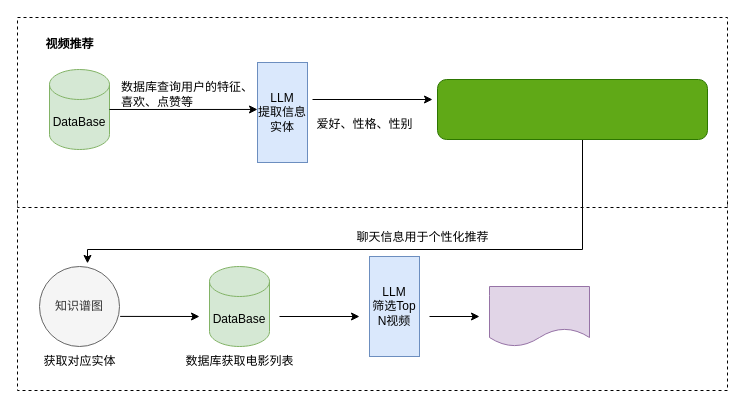
Image size: 745x408. Some labels were removed from this diagram. Each missing label, with the centre of its shape:
用户信息：根据用户信息，查询知识图谱， 构造符合用户画像的提示词: [572,109]
返回推荐结果: [539,316]
